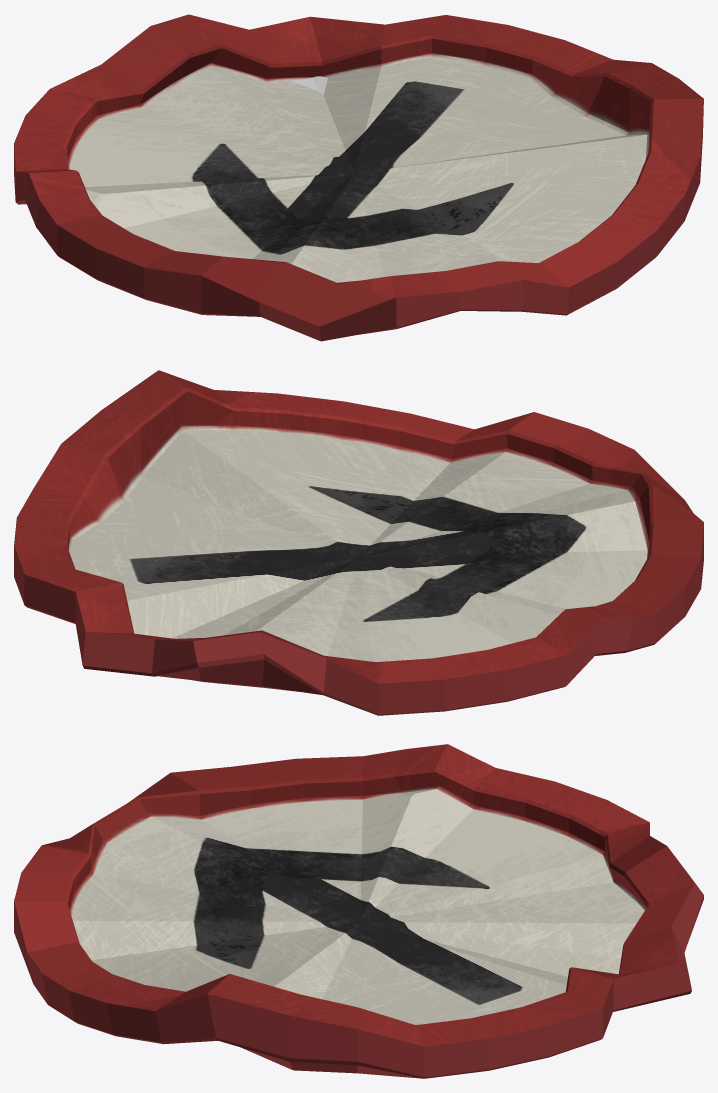
The picture shows the model from 3 angles, top to bottom: view 1: azimuth 30°, elevation 25°; view 2: azimuth 150°, elevation 25°; view 3: azimuth 270°, elevation 25°; orthographic projection.
Visible parts, largest first — view 1: Cylinder.068; view 2: Cylinder.068; view 3: Cylinder.068.
Part boxes in pixels (x1,y1,x2,y2): Cylinder.068: (14, 14, 703, 341); Cylinder.068: (14, 370, 703, 715); Cylinder.068: (14, 744, 703, 1078).
Size of the model in its own units: 200 by 32.84 by 199.
Materials: 3 (1 with a texture image).
